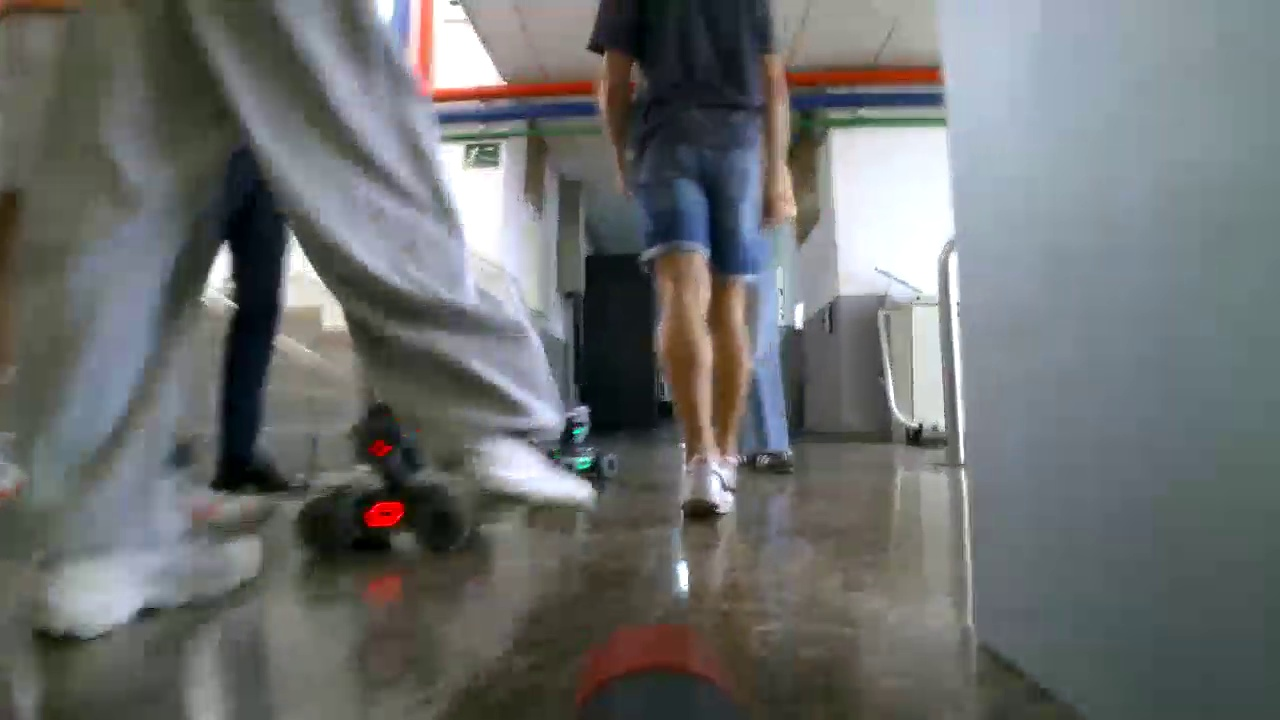robot: (284, 384, 479, 557), (513, 399, 623, 495)
